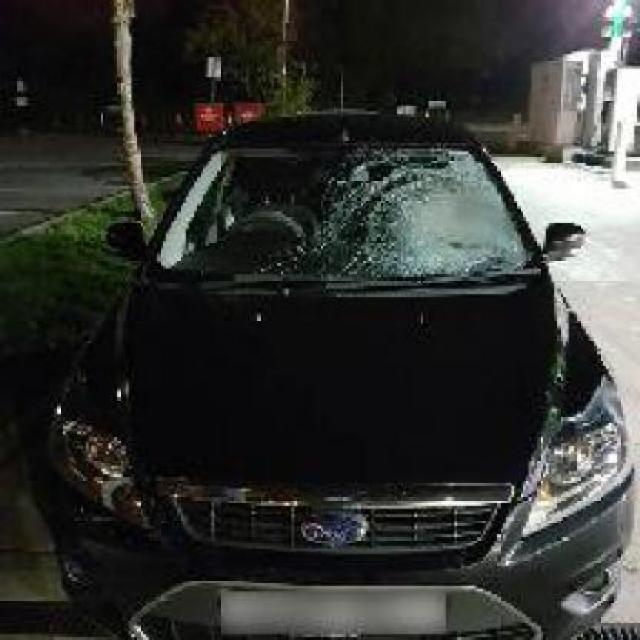damaged-windscreen: (174, 140, 536, 288)
